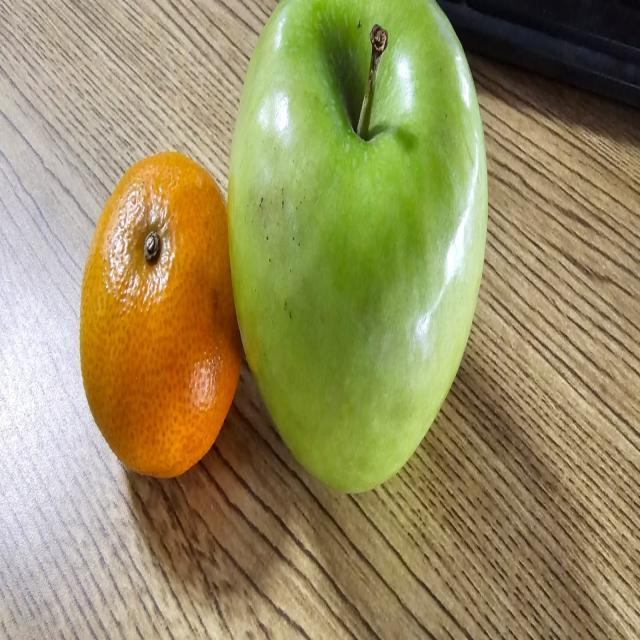Apel Granny Smith: (227, 8, 490, 498)
Jeruk Mandarin: (76, 148, 245, 480)
